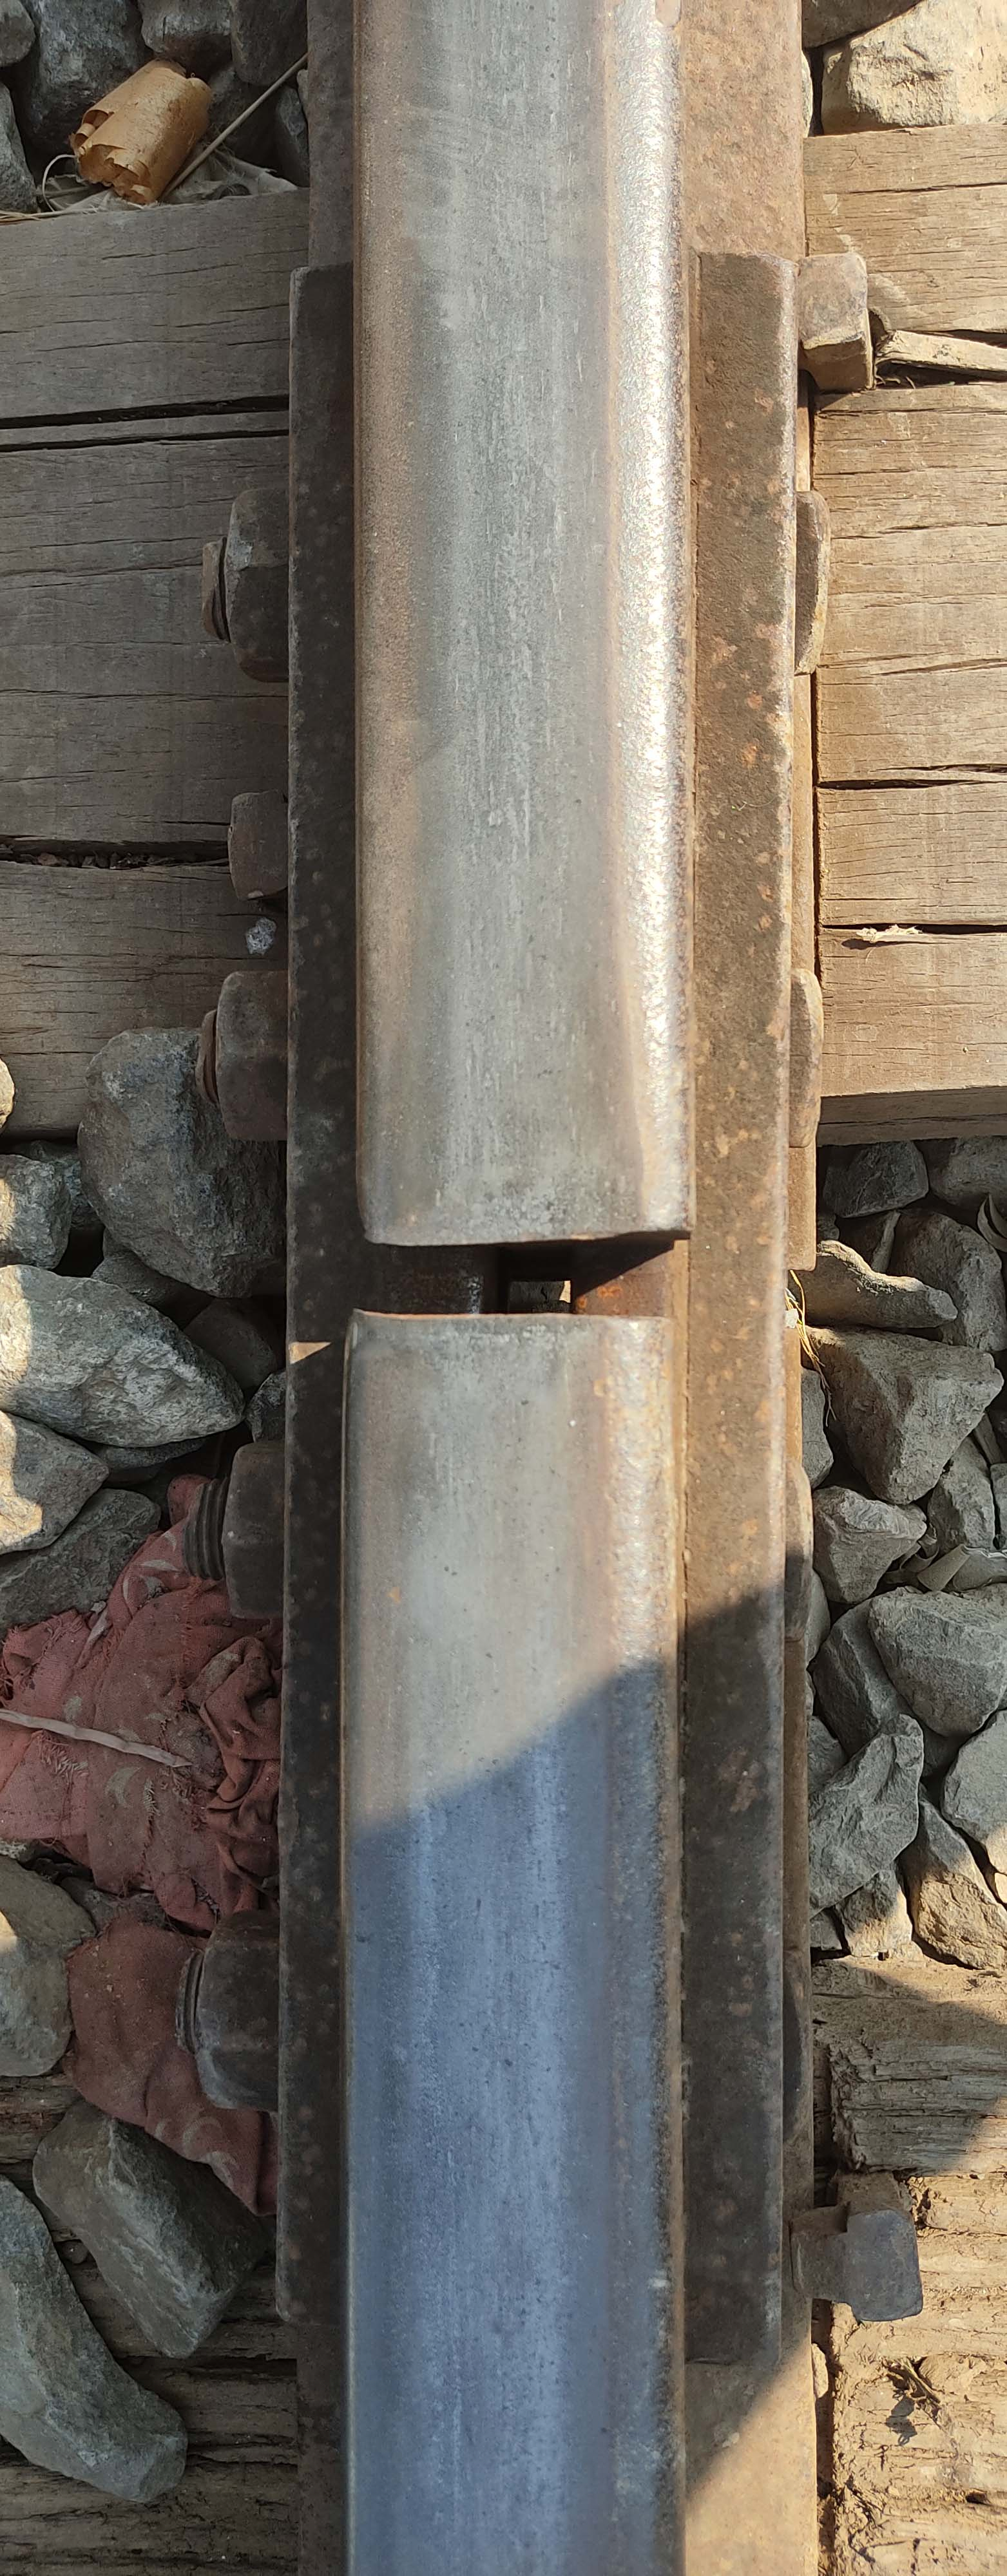error2: (333, 1101, 746, 1513)
